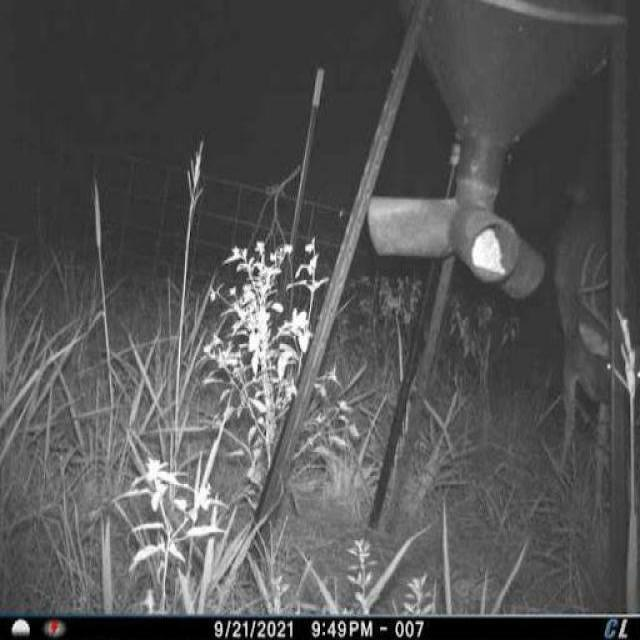deer: (545, 174, 636, 470)
